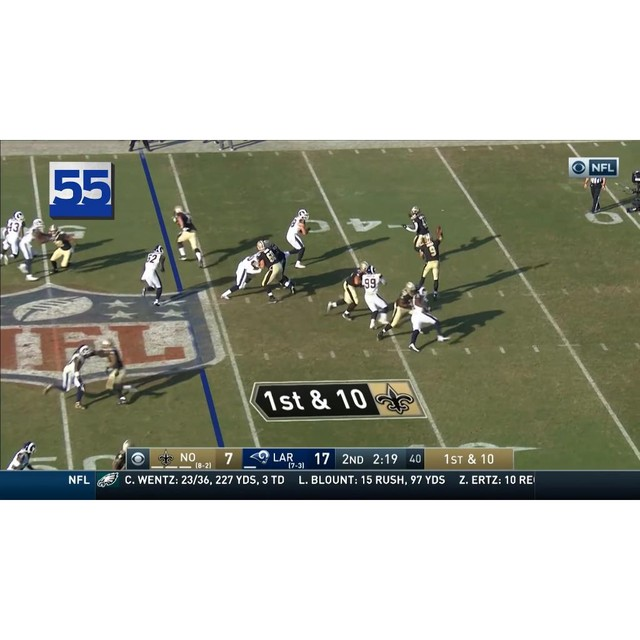american-football-player: (43, 344, 94, 410), (91, 334, 134, 406), (406, 286, 449, 352), (376, 280, 418, 340), (222, 243, 266, 300), (326, 262, 369, 320), (257, 239, 296, 299), (414, 231, 444, 299), (18, 219, 50, 280), (172, 205, 204, 266), (361, 265, 390, 331), (138, 244, 167, 306), (283, 208, 311, 268), (47, 224, 77, 273), (0, 211, 25, 268), (403, 206, 432, 254), (6, 441, 38, 471)
referee: (586, 175, 606, 214)
